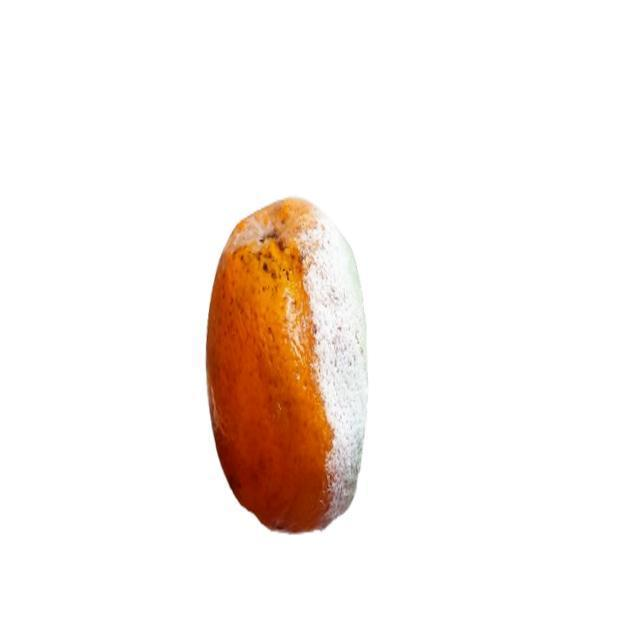rotten orange: (204, 195, 369, 534)
